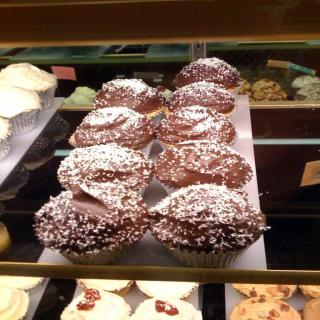Muffin: (34, 58, 270, 262), (0, 64, 53, 110), (62, 288, 134, 320), (240, 73, 320, 100), (0, 86, 41, 133), (133, 296, 202, 320), (137, 276, 196, 304), (228, 297, 298, 320), (0, 162, 32, 196), (75, 276, 132, 295), (0, 286, 29, 320), (232, 284, 292, 298), (0, 275, 45, 293), (27, 134, 55, 162), (298, 297, 320, 320), (0, 115, 11, 156), (45, 115, 68, 134), (0, 223, 12, 258), (302, 284, 320, 298)
